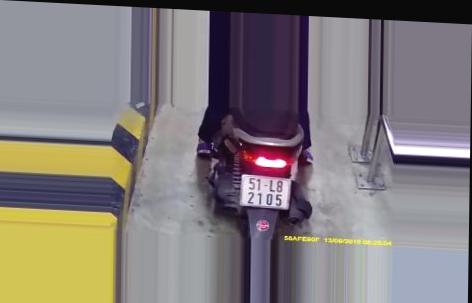License_Plate: (237, 171, 293, 214)
